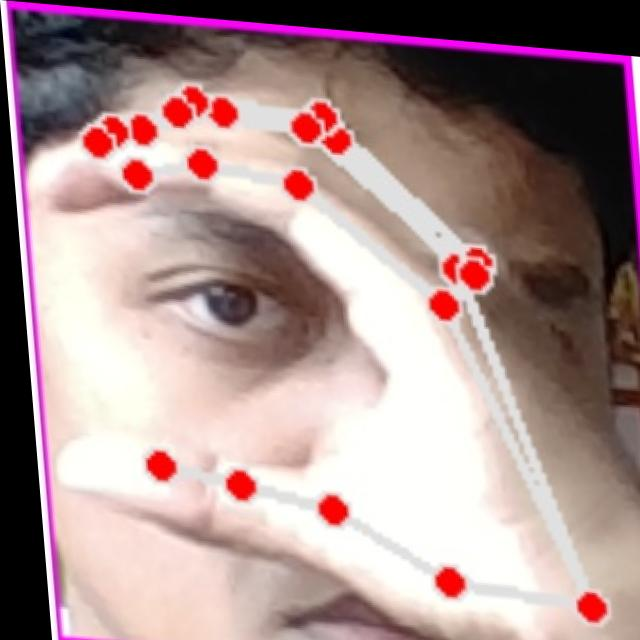C: (27, 58, 622, 640)
